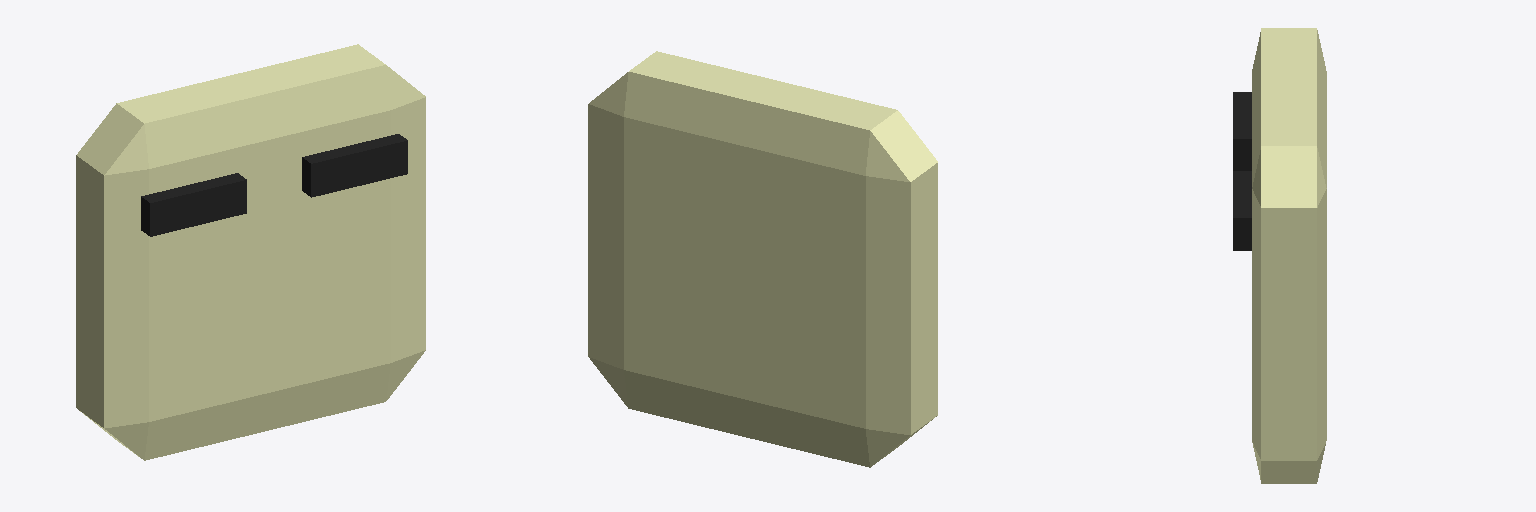
File: AFM_PROFILER_ProfileInput.obj
The picture shows the model from 3 angles: view 1: azimuth 30°, elevation 25°; view 2: azimuth 150°, elevation 25°; view 3: azimuth 270°, elevation 25°; orthographic projection.
Parts seen in each view (by area): view 1: mergedBlocks; view 2: mergedBlocks; view 3: mergedBlocks.
Boxes of the visible parts, x1=… form: mergedBlocks: x1=76, y1=44, x2=425, y2=460; mergedBlocks: x1=588, y1=51, x2=937, y2=467; mergedBlocks: x1=1233, y1=28, x2=1326, y2=483.
Bounding box in the file's own units: 1 × 1 × 0.25.